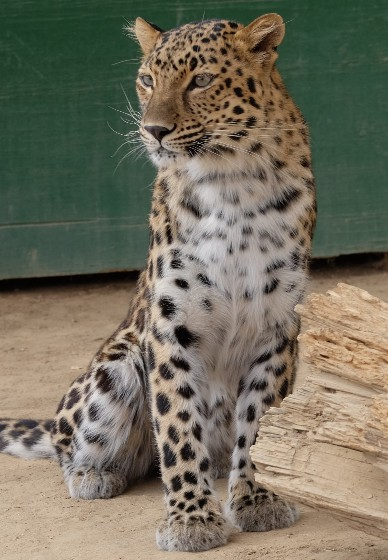amur_leopard: (70, 13, 337, 555)
